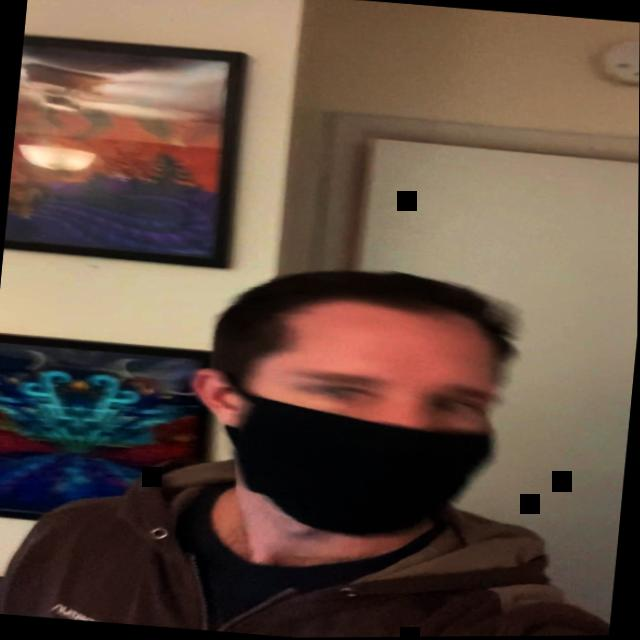Mask: (185, 275, 524, 572)
